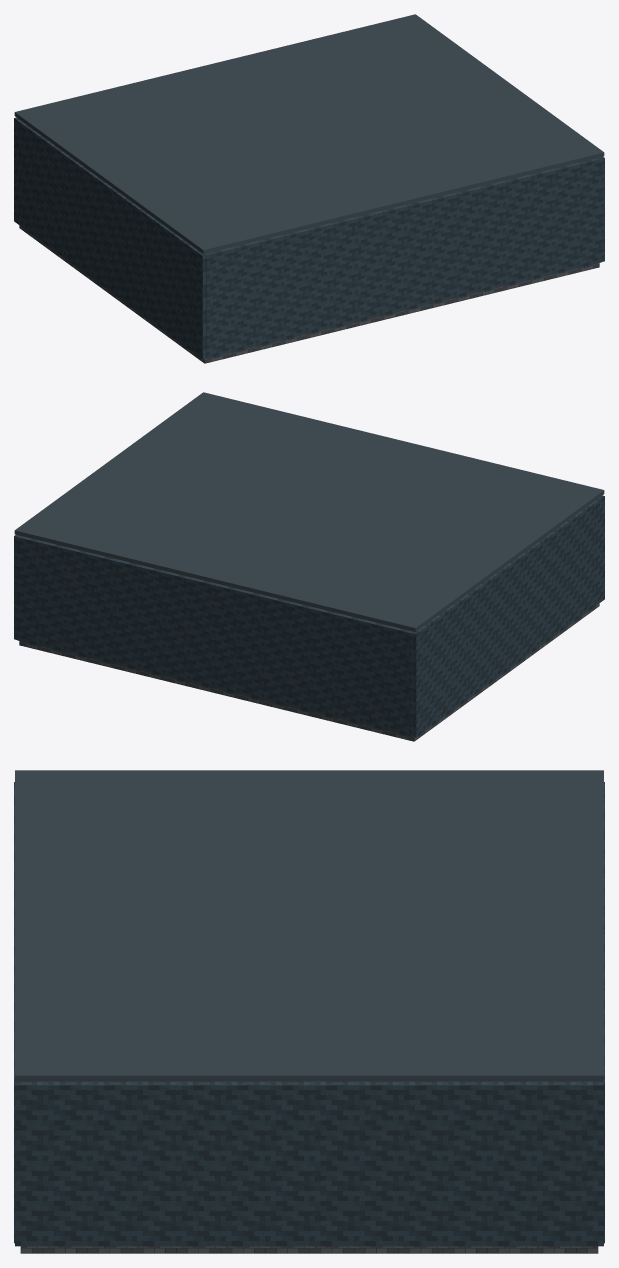
Rendered from ember-foundry.glb.
3 views of the same model, one above another, from view 1: azimuth 30°, elevation 25°; view 2: azimuth 150°, elevation 25°; view 3: azimuth 270°, elevation 25° (orthographic). The views are drawn at different scales.
Parts seen in each view (by area): view 1: Ember Foundry Foundry charcoal, Ember Foundry Blue steel panels, Ember Foundry Foundry concrete; view 2: Ember Foundry Foundry charcoal, Ember Foundry Blue steel panels, Ember Foundry Foundry concrete; view 3: Ember Foundry Foundry charcoal, Ember Foundry Blue steel panels, Ember Foundry Foundry concrete.
Boxes of the visible parts, x1,y1,x2,y2 form: Ember Foundry Foundry charcoal: [14, 14, 604, 253]; Ember Foundry Blue steel panels: [14, 117, 604, 359]; Ember Foundry Foundry concrete: [19, 225, 599, 363]; Ember Foundry Foundry charcoal: [14, 392, 604, 631]; Ember Foundry Blue steel panels: [14, 495, 604, 737]; Ember Foundry Foundry concrete: [19, 603, 599, 741]; Ember Foundry Foundry charcoal: [15, 770, 603, 1081]; Ember Foundry Blue steel panels: [14, 782, 604, 1246]; Ember Foundry Foundry concrete: [20, 1246, 598, 1253].
Bounding box in the file's own units: 65.2 × 17.9 × 53.2.
7 materials, 3 textured.
